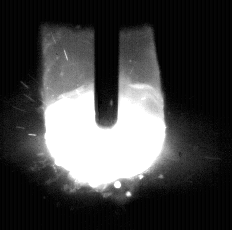arame: (95, 0, 121, 128)
poca: (43, 0, 167, 230)
